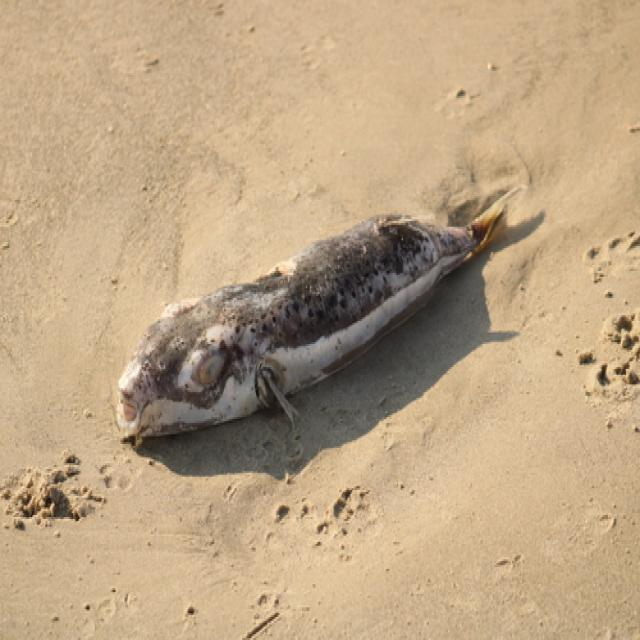Balik: (118, 187, 522, 438)
